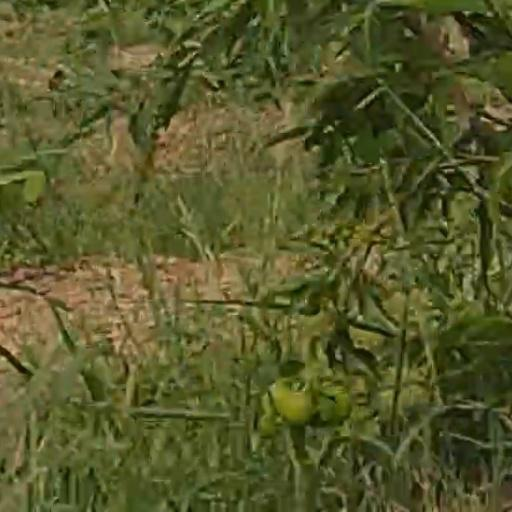acerola: (273, 382, 308, 421)
